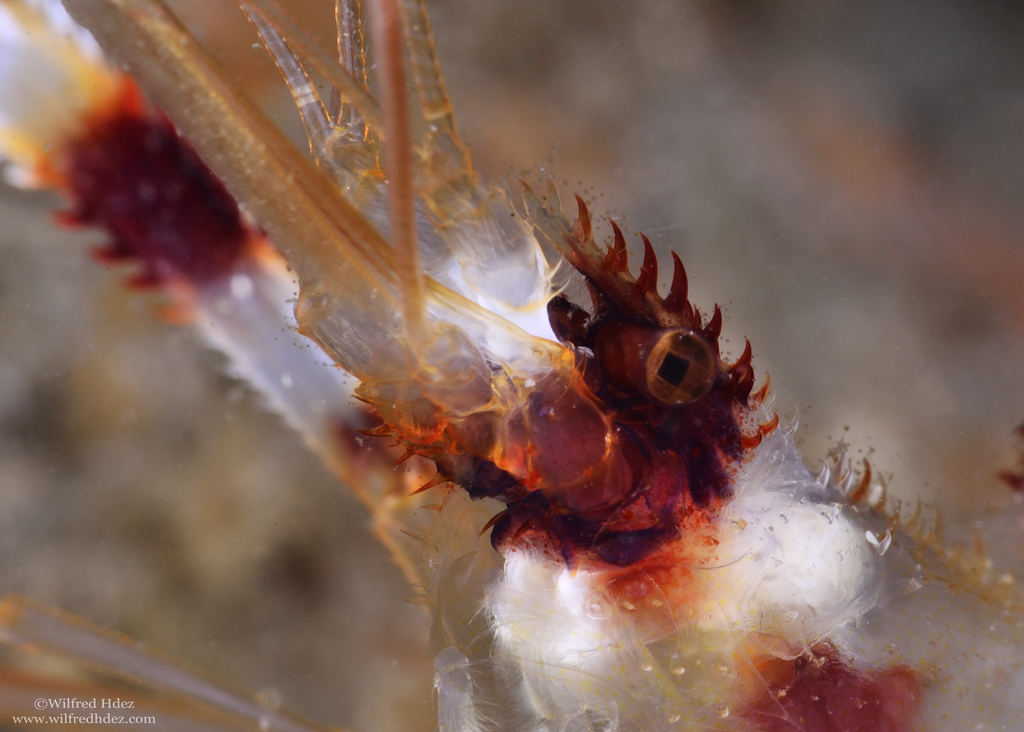Animal: (0, 0, 1022, 730)
